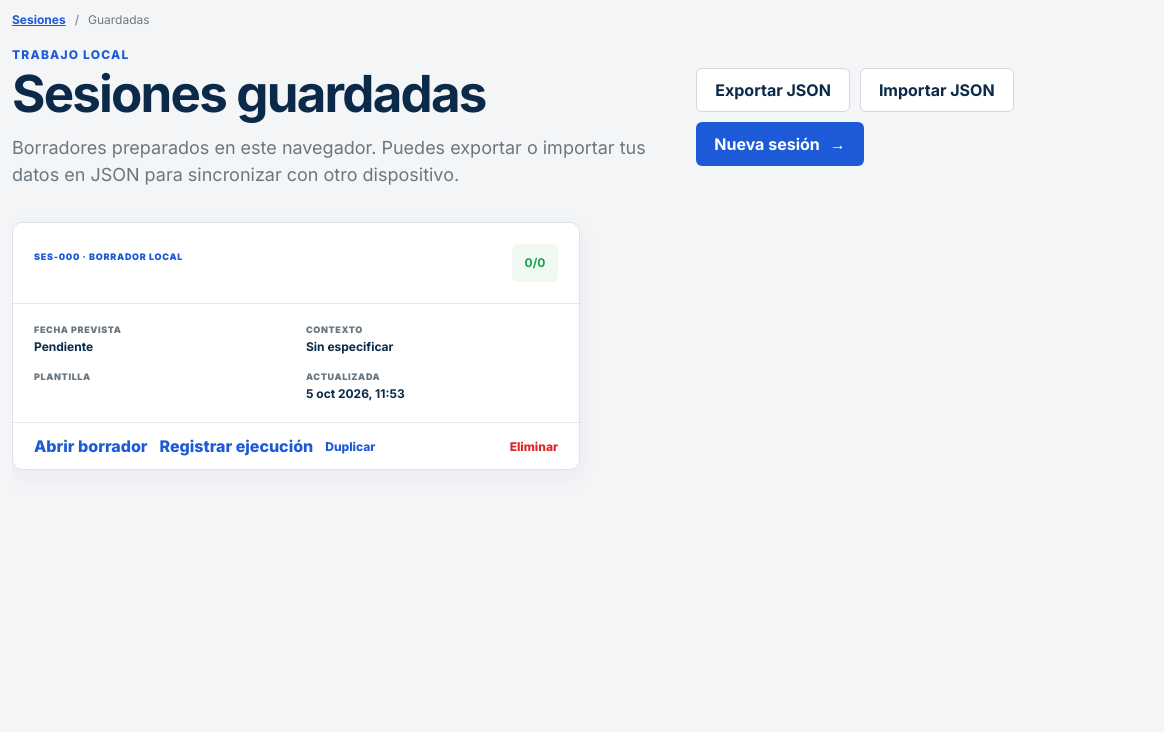
Test case: SavedSessionsPage › exports stored drafts to a downloadable JSON file with feedback
Click the button "Exportar JSON".
click(773, 90)  # box [696,68,850,112]
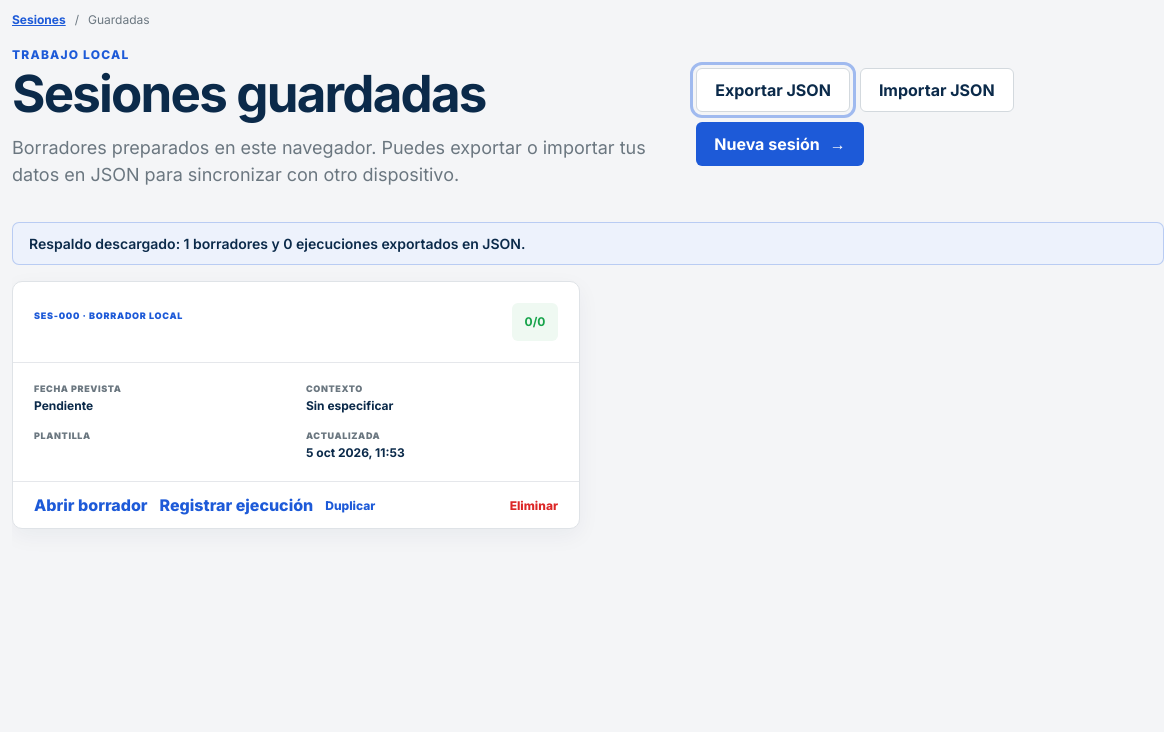
Result: the message shows "Respaldo descargado: 1 borradores" at [29,235,525,252]
